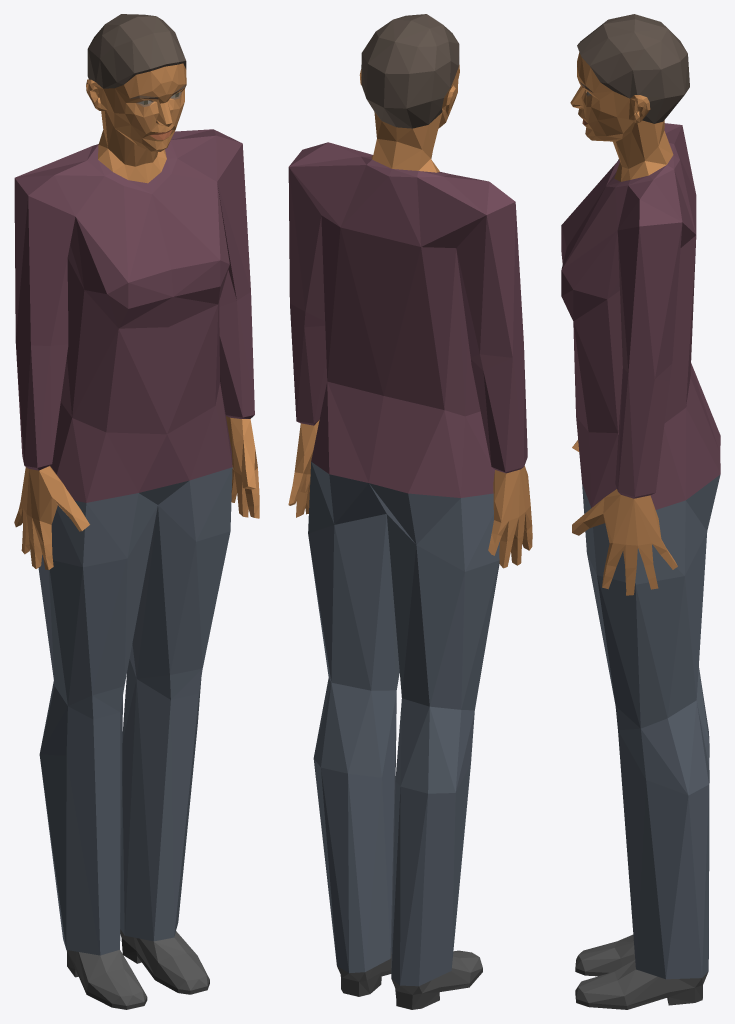
File: human-female-1-standing.glb
The picture shows the model from 3 angles, left to right: view 1: azimuth 30°, elevation 25°; view 2: azimuth 150°, elevation 25°; view 3: azimuth 270°, elevation 25°; orthographic projection.
Visible parts, largest first — view 1: human/female@1/standing; view 2: human/female@1/standing; view 3: human/female@1/standing.
Part boxes in pixels (x1,y1,x2,y2): human/female@1/standing: (14, 14, 259, 1009); human/female@1/standing: (288, 14, 532, 1009); human/female@1/standing: (561, 14, 720, 1009).
Bounding box in the file's own units: 444 × 1798 × 269.
